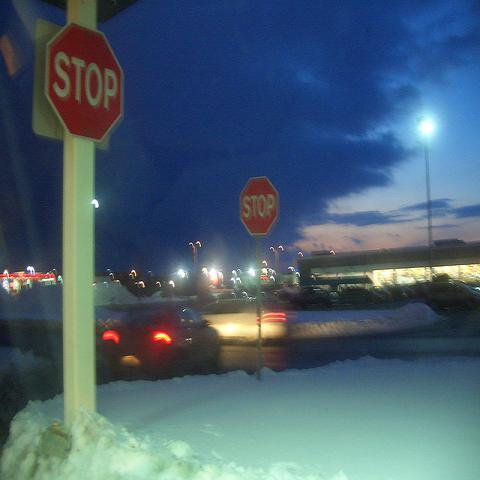car: (104, 306, 226, 379), (424, 279, 480, 314), (290, 285, 332, 309)
